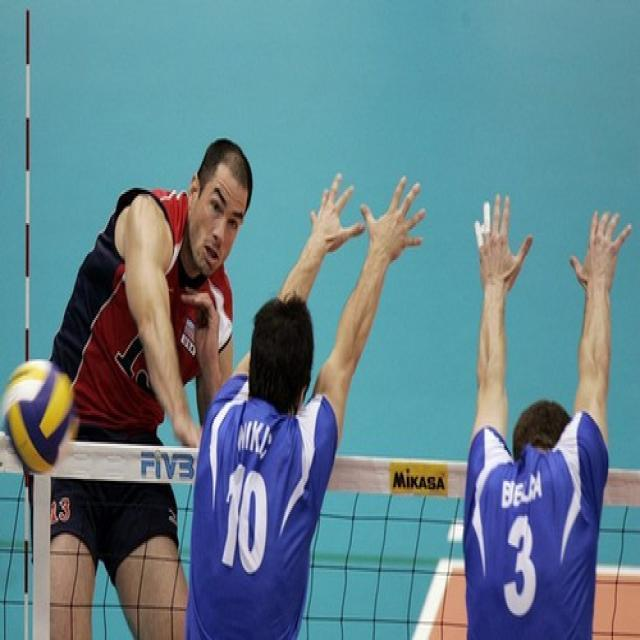volleyball: (4, 358, 74, 476)
